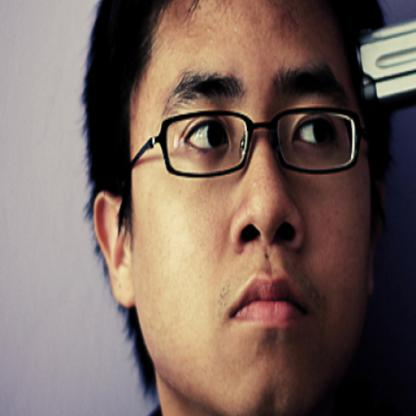gun: (355, 0, 415, 156)
